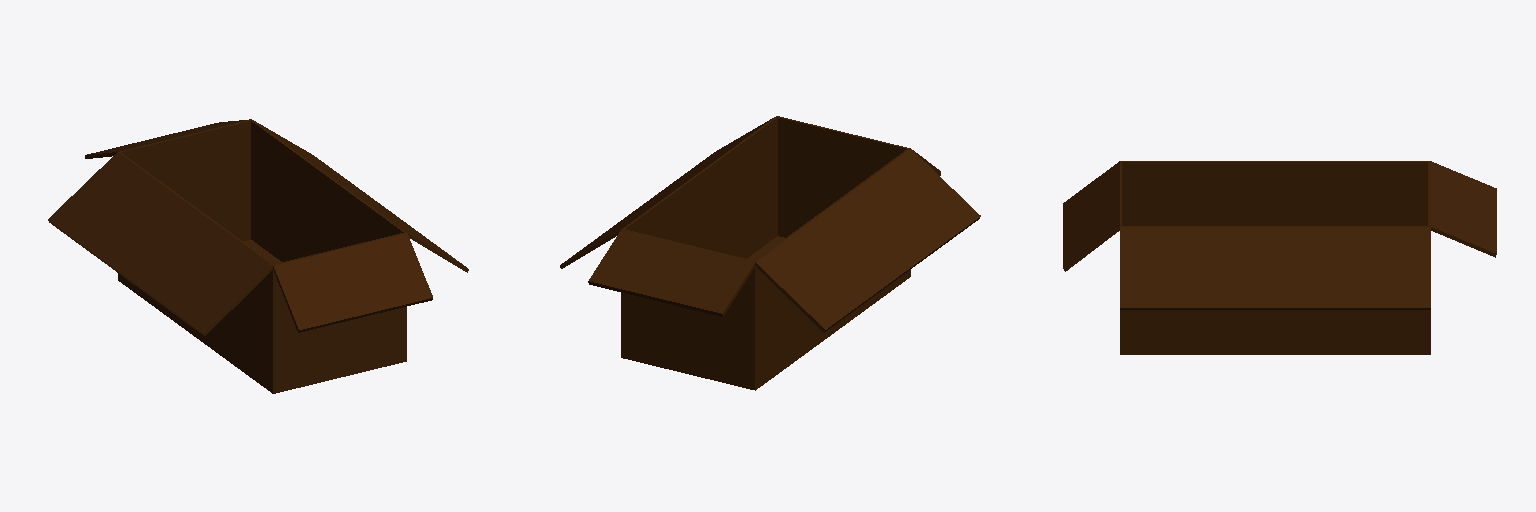
The model's file is boox_2.obj.
The picture shows the model from 3 angles: view 1: azimuth 30°, elevation 25°; view 2: azimuth 150°, elevation 25°; view 3: azimuth 270°, elevation 25°; orthographic projection.
Parts seen in each view (by area): view 1: pCube1; view 2: pCube1; view 3: pCube1.
Part boxes in pixels (x1,y1,x2,y2): pCube1: (48, 119, 468, 393); pCube1: (560, 116, 980, 390); pCube1: (1063, 161, 1496, 354).
Bounding box in the file's own units: 93.73 × 43.15 × 132.